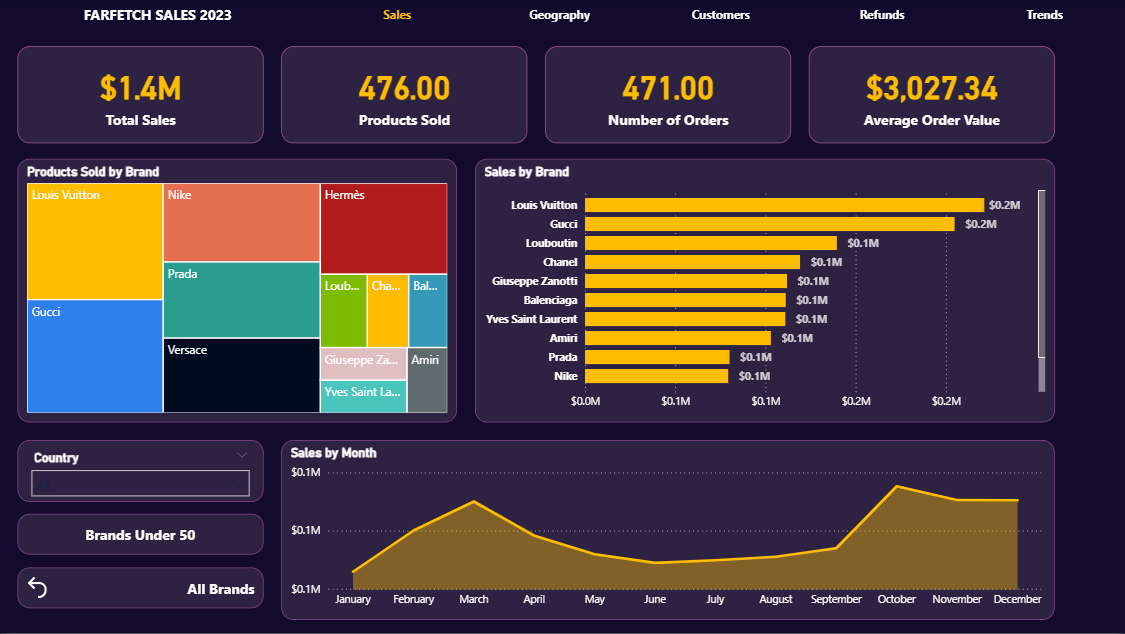

What the dashboard file says about the page in this screenshot:
{"tool":"powerbi","page":{"name":"Executive Overview","canvas":[1280,880],"ordinal":0},"visuals":[{"type":"textbox","box":[20,2,1238,48],"z":100},{"type":"textbox","box":[20,50,1238,30],"z":200},{"type":"actionButton","box":[20,78,172,32],"z":300},{"type":"actionButton","box":[196,78,172,32],"z":400},{"type":"actionButton","box":[372,78,172,32],"z":500},{"type":"actionButton","box":[548,78,172,32],"z":600},{"type":"actionButton","box":[724,78,172,32],"z":700},{"type":"actionButton","box":[900,78,172,32],"z":800},{"type":"actionButton","box":[1076,78,172,32],"z":900},{"type":"slicer","fields":{"Values":["Calendar.Year Month"]},"box":[20,124,294,60],"z":1000},{"type":"slicer","fields":{"Values":["customers.country"]},"box":[334,124,294,60],"z":1100},{"type":"slicer","fields":{"Values":["products.brand"]},"box":[648,124,294,60],"z":1200},{"type":"slicer","fields":{"Values":["orders.currency"]},"box":[962,124,298,60],"z":1300},{"type":"textbox","box":[20,820,1240,30],"z":1400},{"type":"textbox","box":[20,850,990,28],"z":1500},{"type":"card","fields":{"Values":["measures (2).Order Value USD"]},"box":[20,202,292,88],"z":1600},{"type":"card","fields":{"Values":["measures (2).Orders"]},"box":[334,202,292,88],"z":1700},{"type":"card","fields":{"Values":["measures (2).Order Lines"]},"box":[648,202,292,88],"z":1800},{"type":"card","fields":{"Values":["measures (2).Average Order Value USD"]},"box":[962,202,298,88],"z":1900},{"type":"clusteredBarChart","title":"Top 10 brands • allocated order value (USD)","fields":{"Category":["products.brand"],"Y":["measures (2).Order Value USD"]},"box":[20,308,606,270],"z":2000},{"type":"lineChart","title":"Monthly order value • USD, axis in thousands","fields":{"Category":["Calendar.Month"],"Y":["measures (2).Order Value USD"]},"box":[648,308,612,270],"z":2100},{"type":"card","fields":{"Values":["measures (2).Latest Month Change"]},"box":[20,598,292,100],"z":2200},{"type":"card","fields":{"Values":["measures (2).Purchasing Customers"]},"box":[334,598,292,100],"z":2300},{"type":"card","title":"Key takeaway / investigate","fields":{"Values":["measures (2).Sales Takeaway"]},"box":[648,598,612,130],"z":2400},{"type":"textbox","box":[20,754,1240,60],"z":2500},{"type":"actionButton","box":[1020,850,240,24],"z":15600}]}

Visuals, with their boxes on the page's 1280x880 design canvas (x1, y1, x2, y2). These are canvas units, not pixel positions in the 1125x634 screenshot, which may show the page scaled, cropped or inside an application window:
textbox: x1=20 y1=2 x2=1258 y2=50
textbox: x1=20 y1=50 x2=1258 y2=80
actionButton: x1=20 y1=78 x2=192 y2=110
actionButton: x1=196 y1=78 x2=368 y2=110
actionButton: x1=372 y1=78 x2=544 y2=110
actionButton: x1=548 y1=78 x2=720 y2=110
actionButton: x1=724 y1=78 x2=896 y2=110
actionButton: x1=900 y1=78 x2=1072 y2=110
actionButton: x1=1076 y1=78 x2=1248 y2=110
slicer - Calendar.Year Month: x1=20 y1=124 x2=314 y2=184
slicer - customers.country: x1=334 y1=124 x2=628 y2=184
slicer - products.brand: x1=648 y1=124 x2=942 y2=184
slicer - orders.currency: x1=962 y1=124 x2=1260 y2=184
textbox: x1=20 y1=820 x2=1260 y2=850
textbox: x1=20 y1=850 x2=1010 y2=878
card - measures (2).Order Value USD: x1=20 y1=202 x2=312 y2=290
card - measures (2).Orders: x1=334 y1=202 x2=626 y2=290
card - measures (2).Order Lines: x1=648 y1=202 x2=940 y2=290
card - measures (2).Average Order Value USD: x1=962 y1=202 x2=1260 y2=290
"Top 10 brands • allocated order value (USD)" clusteredBarChart: x1=20 y1=308 x2=626 y2=578
"Monthly order value • USD, axis in thousands" lineChart: x1=648 y1=308 x2=1260 y2=578
card - measures (2).Latest Month Change: x1=20 y1=598 x2=312 y2=698
card - measures (2).Purchasing Customers: x1=334 y1=598 x2=626 y2=698
"Key takeaway / investigate" card: x1=648 y1=598 x2=1260 y2=728
textbox: x1=20 y1=754 x2=1260 y2=814
actionButton: x1=1020 y1=850 x2=1260 y2=874
